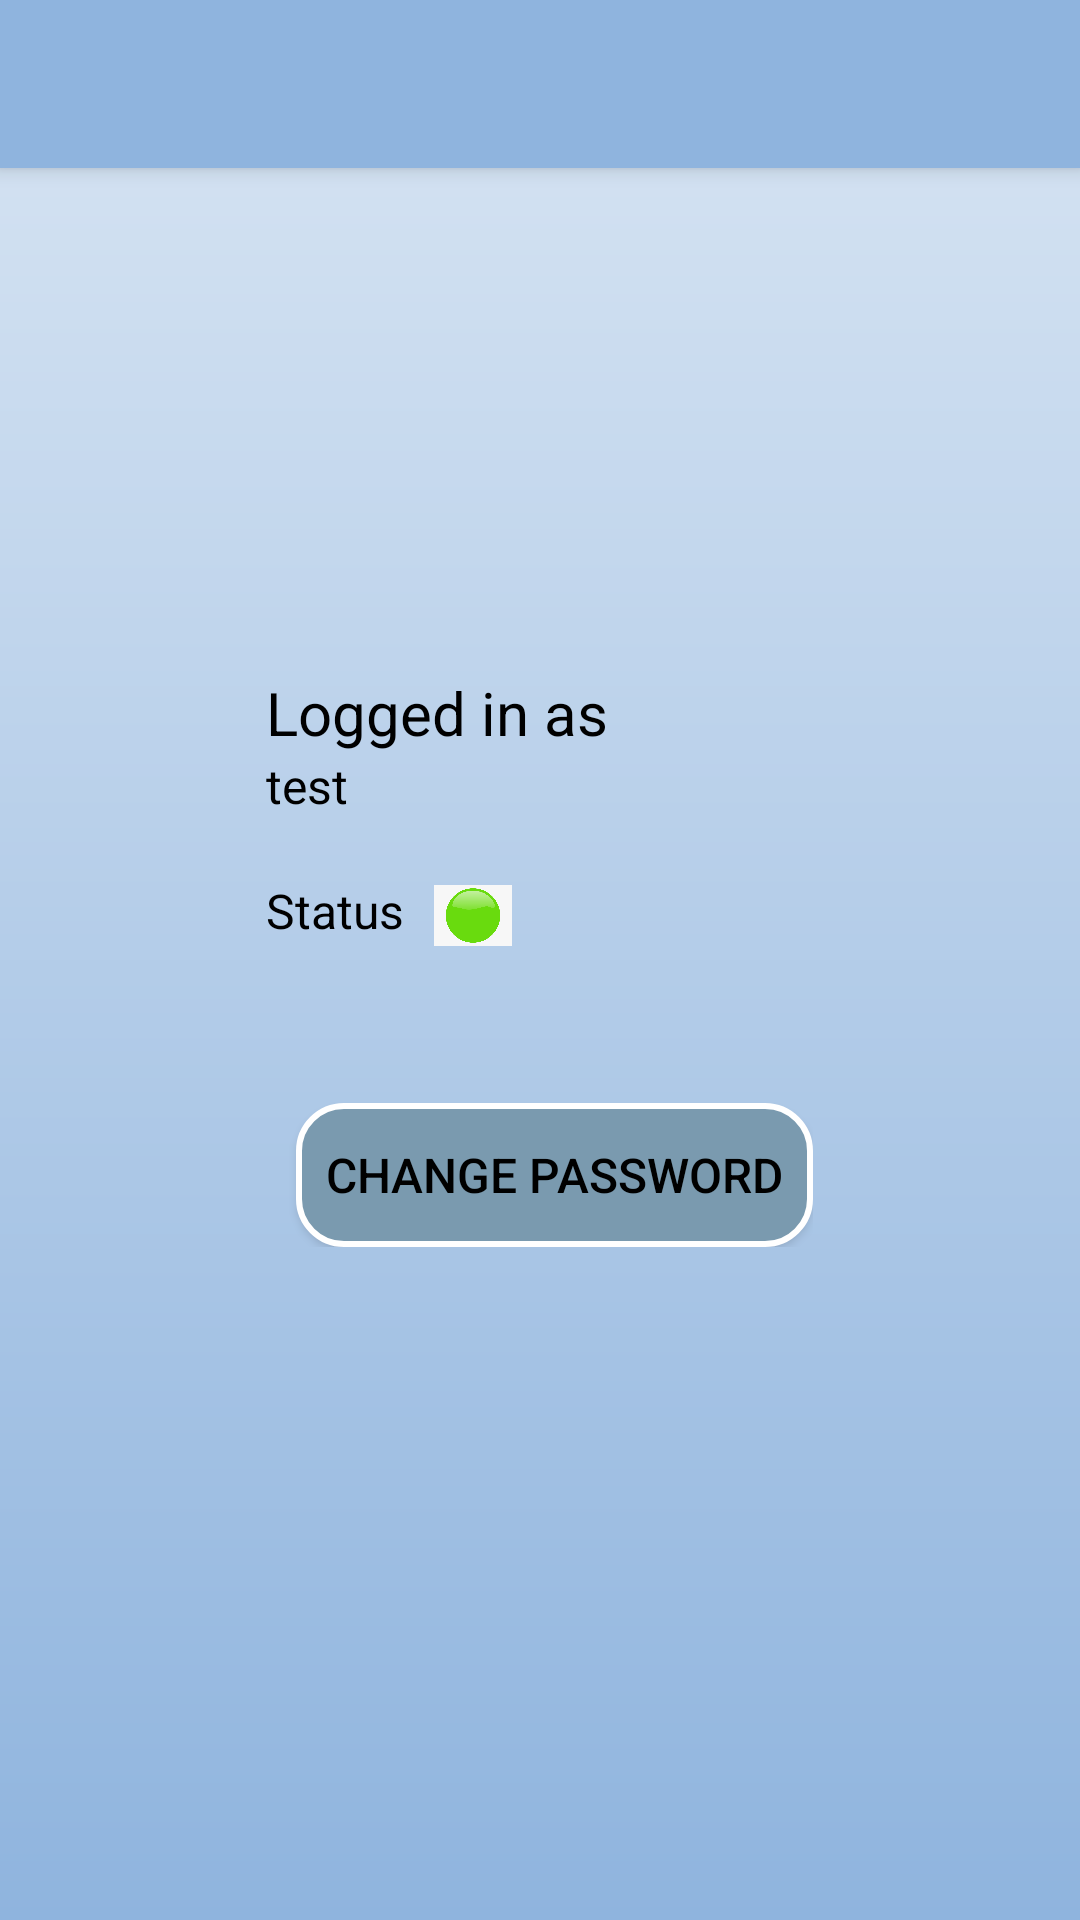

Where icons sit on this 1080*1920 app screen, as box=[x1, y1, x2, y2]:
online: box=[434, 885, 512, 946]
